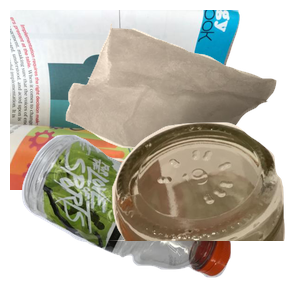glass: (89, 120, 300, 300)
paper: (10, 10, 250, 190)
plastic: (19, 132, 242, 300)
trash: (63, 21, 300, 172)
